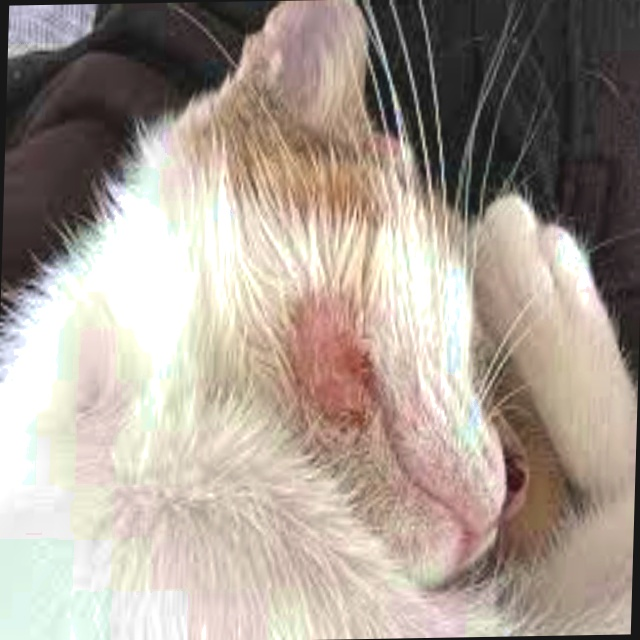ringworm: (288, 309, 382, 421)
